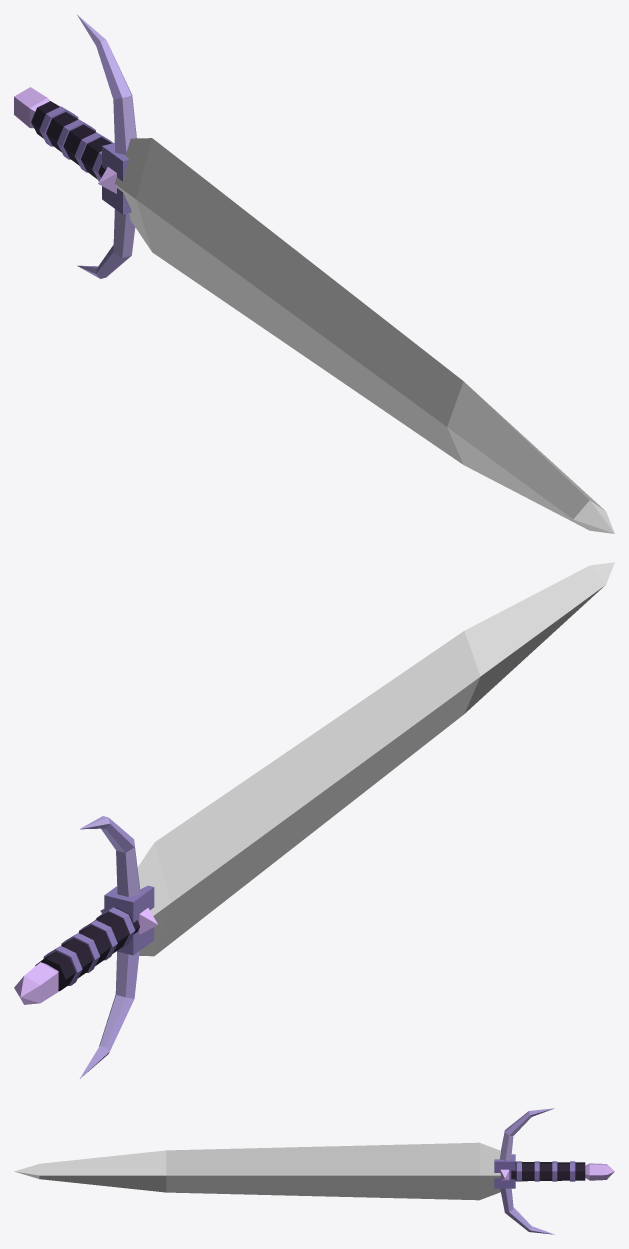
Rendered from Blade_Skybreaker.fbx.
3 views of the same model, one above another, from view 1: azimuth 30°, elevation 25°; view 2: azimuth 150°, elevation 25°; view 3: azimuth 270°, elevation 25° (orthographic). The views are drawn at different scales.
Visible parts, largest first — view 1: Blade_Skybreaker_Glow, Blade_Skybreaker; view 2: Blade_Skybreaker_Glow, Blade_Skybreaker; view 3: Blade_Skybreaker_Glow, Blade_Skybreaker.
Part boxes in pixels (x1,y1,x2,y2): Blade_Skybreaker_Glow: (114, 138, 614, 533); Blade_Skybreaker: (14, 15, 136, 278); Blade_Skybreaker_Glow: (137, 562, 614, 956); Blade_Skybreaker: (14, 816, 157, 1078); Blade_Skybreaker_Glow: (14, 1142, 500, 1200); Blade_Skybreaker: (494, 1108, 614, 1234).
Bounding box in the file's own units: 0.08 × 0.33 × 1.42.
